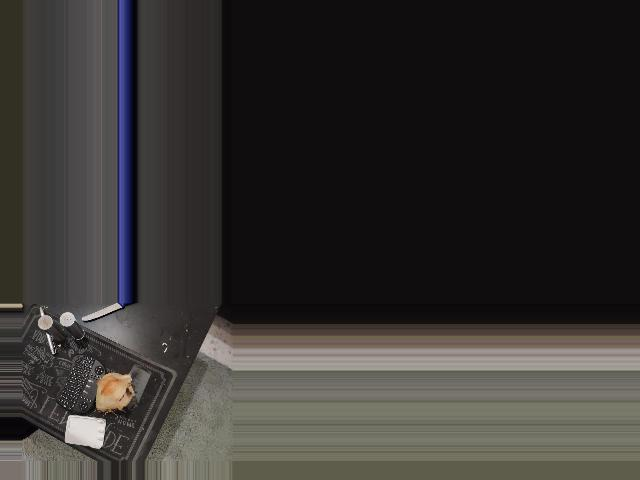onion: (91, 371, 133, 413)
